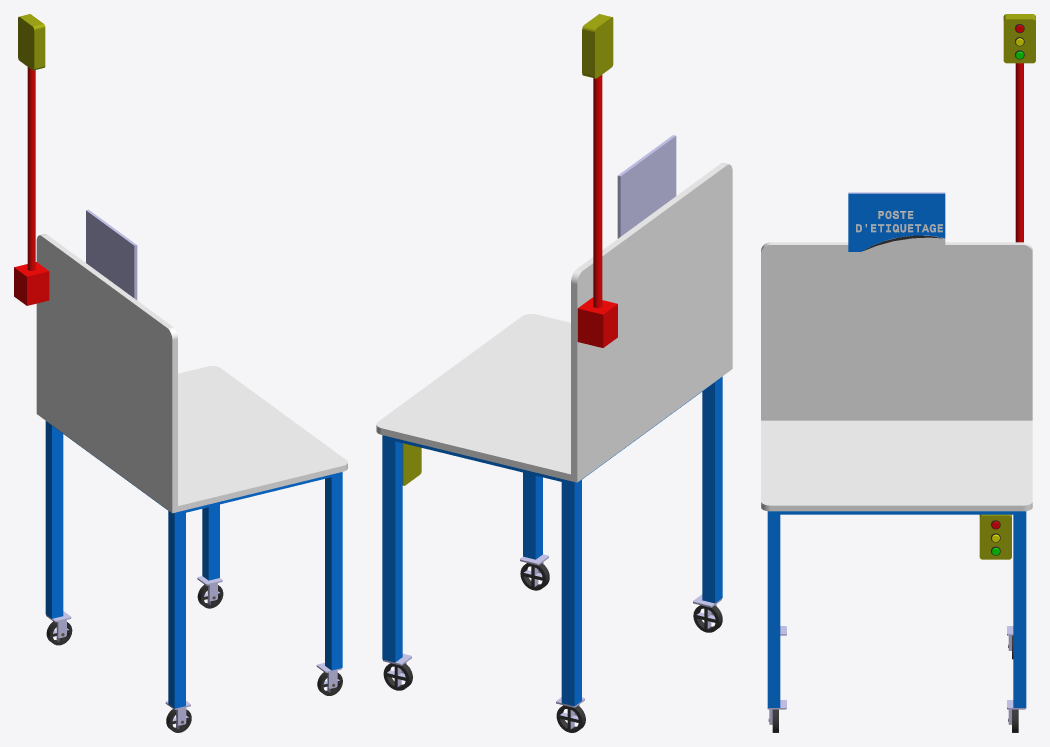
Rendered from Scene_Etiquetage_FBX.fbx.
3 renders of one model, left to right at view 1: azimuth 30°, elevation 25°; view 2: azimuth 150°, elevation 25°; view 3: azimuth 270°, elevation 25°, orthographic. The views are drawn at different scales.
Visible parts, largest first — view 1: bureau_Poste004, bureau_Poste2, roue-convoyeur007, roue-convoyeur005, roue-convoyeur006, roue-convoyeur004; view 2: bureau_Poste004, bureau_Poste2, roue-convoyeur006, roue-convoyeur004, roue-convoyeur007, roue-convoyeur005, bureau_Poste003; view 3: bureau_Poste004, bureau_Poste2, bureau_Poste003.
Boxes of the visible parts, x1,y1,x2,y2 form: bureau_Poste004: (36, 209, 347, 708); bureau_Poste2: (14, 14, 49, 305); roue-convoyeur007: (197, 576, 223, 608); roue-convoyeur005: (46, 611, 72, 645); roue-convoyeur006: (316, 662, 342, 695); roue-convoyeur004: (165, 701, 191, 732); bureau_Poste004: (376, 135, 732, 706); bureau_Poste2: (577, 14, 617, 347); roue-convoyeur006: (520, 554, 549, 590); roue-convoyeur004: (693, 594, 722, 632); roue-convoyeur007: (383, 653, 412, 690); roue-convoyeur005: (556, 697, 585, 732); bureau_Poste003: (402, 443, 421, 485); bureau_Poste004: (761, 192, 1032, 707); bureau_Poste2: (1003, 14, 1035, 242); bureau_Poste003: (979, 514, 1011, 559).
Size of what is drawn, in the model's own units: 72.1 by 215 by 85.
